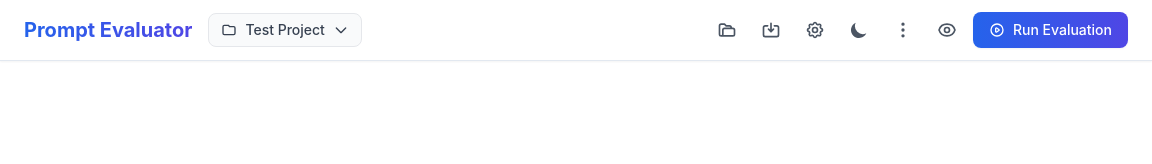
Test: FileBar › Preview YAML › should show preview dropdown with yaml view options
The width and height of the screenshot is (1152, 164).
Click the button titled "Preview YAML" at (947, 30), box [929, 12, 965, 48]
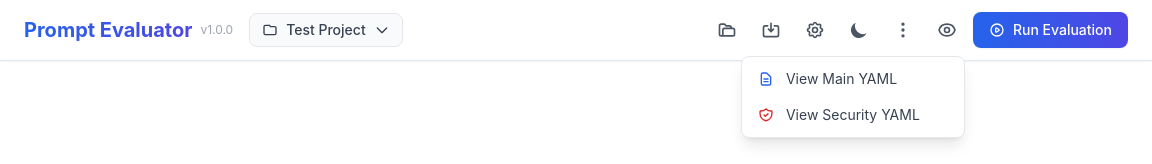
Now the text "View Main YAML" is shown, box [786, 69, 897, 89]
